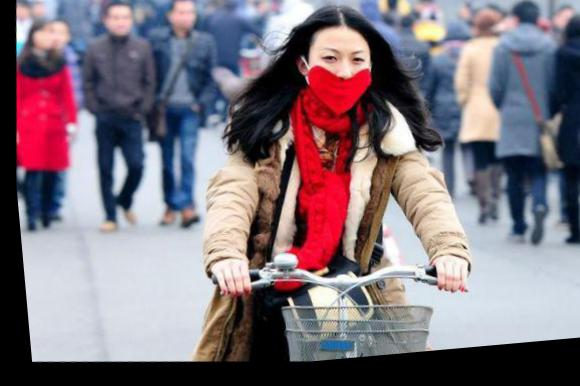NONE: (106, 12, 134, 39), (33, 26, 57, 53), (49, 27, 73, 54), (173, 9, 198, 33)
WRONG: (305, 43, 375, 122)
